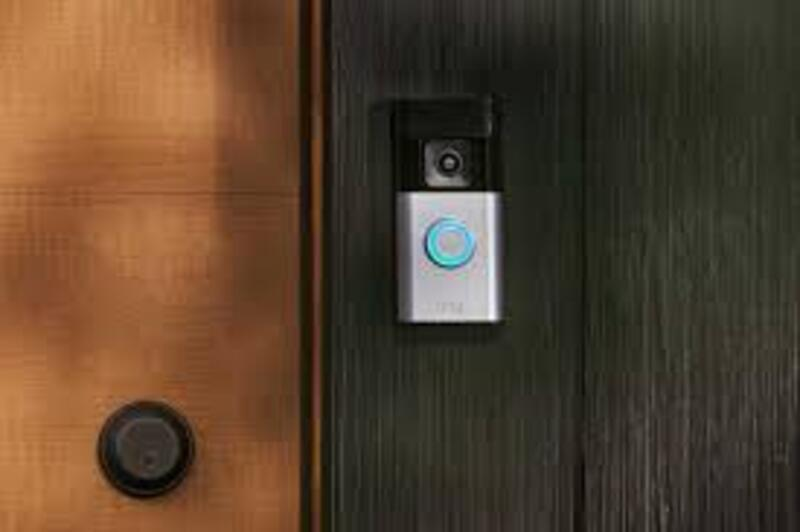doorbell: (375, 88, 515, 327)
